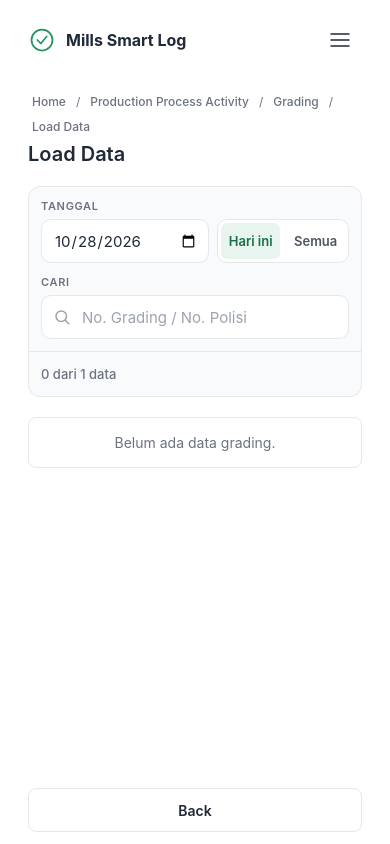
Test case: DataPreviewGradingView › shows a not-found message + Reset Filter button when the combined date + search filter matches nothing, and Reset Filter clears both filters
The image size is (390, 844).
In the date field with test id "date-filter-input": [125, 241] box [41,219,209,263], type "2026-08-11"
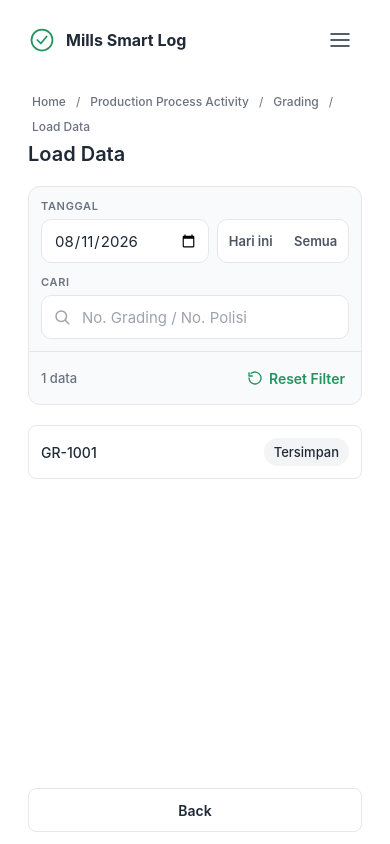
In the field with test id "search-filter-input": [195, 317] box [41,295,349,339], type "no-such-grading-number"
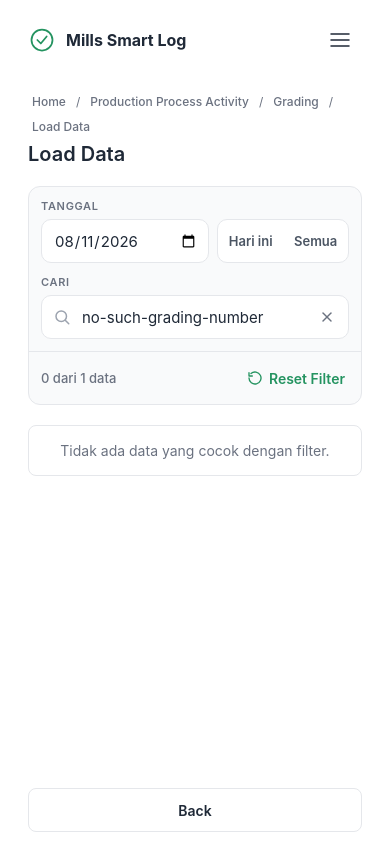
Expected: the button with test id "reset-filter-button" is shown
Expected: the element with test id "record-list-empty" is shown, [28,425,362,476]
Click the button with test id "reset-filter-button": [296, 378] box [235,356,357,400]
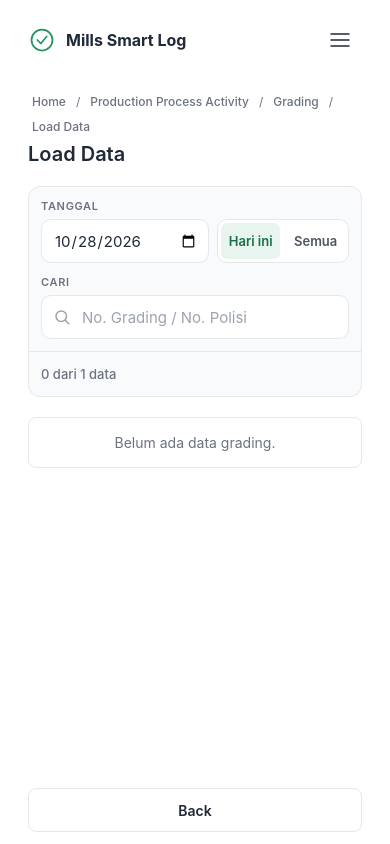
Expected: the field with test id "search-filter-input" is empty, [41,295,349,339]
